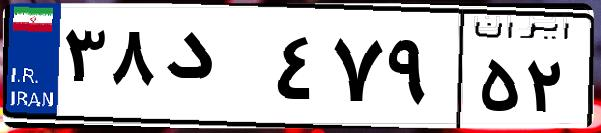2: (525, 38, 570, 115)
3: (57, 26, 110, 100)
4: (270, 28, 330, 110)
5: (475, 38, 525, 113)
7: (330, 28, 385, 110)
8: (110, 28, 158, 98)
9: (385, 28, 445, 110)
د: (158, 20, 270, 120)
